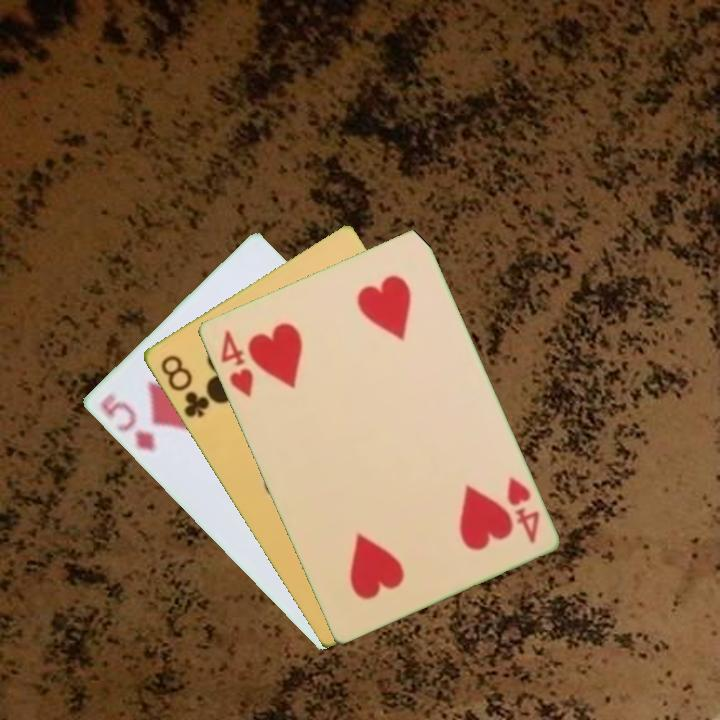4h: (216, 326, 256, 401), (503, 473, 542, 547)
5d: (95, 389, 158, 455)
8c: (156, 351, 212, 421)
